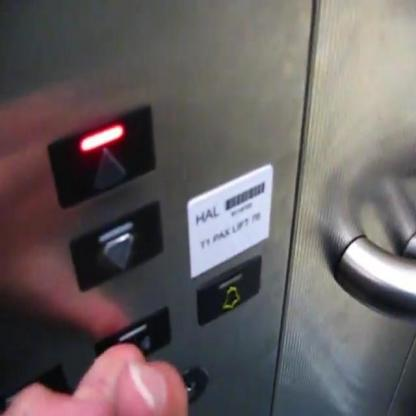alarm: (193, 250, 261, 328)
down: (65, 198, 165, 293)
up: (44, 98, 158, 209)
